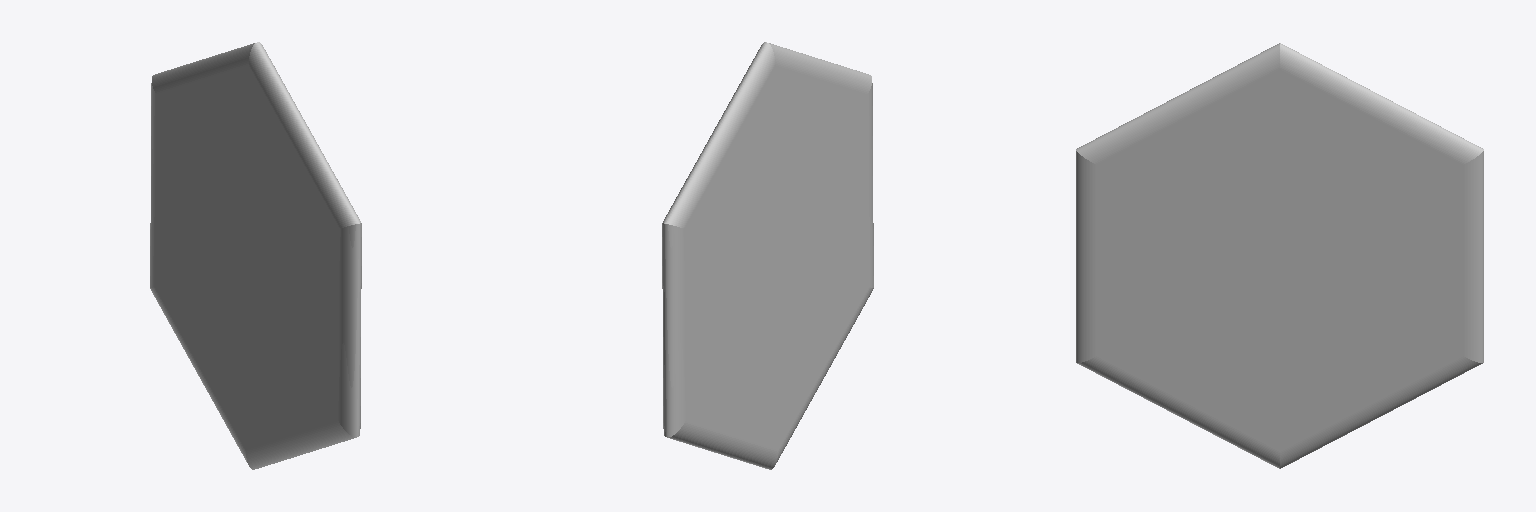
Rendered from badge-ouro.obj.
3 views of the same model, side by side, from view 1: azimuth 30°, elevation 25°; view 2: azimuth 150°, elevation 25°; view 3: azimuth 270°, elevation 25° (orthographic).
Parts seen in each view (by area): view 1: badge-ouro.003; view 2: badge-ouro.003; view 3: badge-ouro.003.
Boxes of the visible parts, x1=… form: badge-ouro.003: x1=150, y1=42, x2=361, y2=469; badge-ouro.003: x1=662, y1=42, x2=873, y2=469; badge-ouro.003: x1=1076, y1=43, x2=1483, y2=468.
Bounding box in the file's own units: 0.9925 × 20 × 17.32.